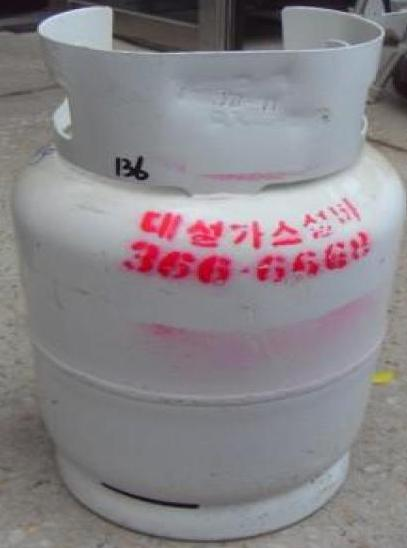cylinder: (1, 1, 407, 548)
